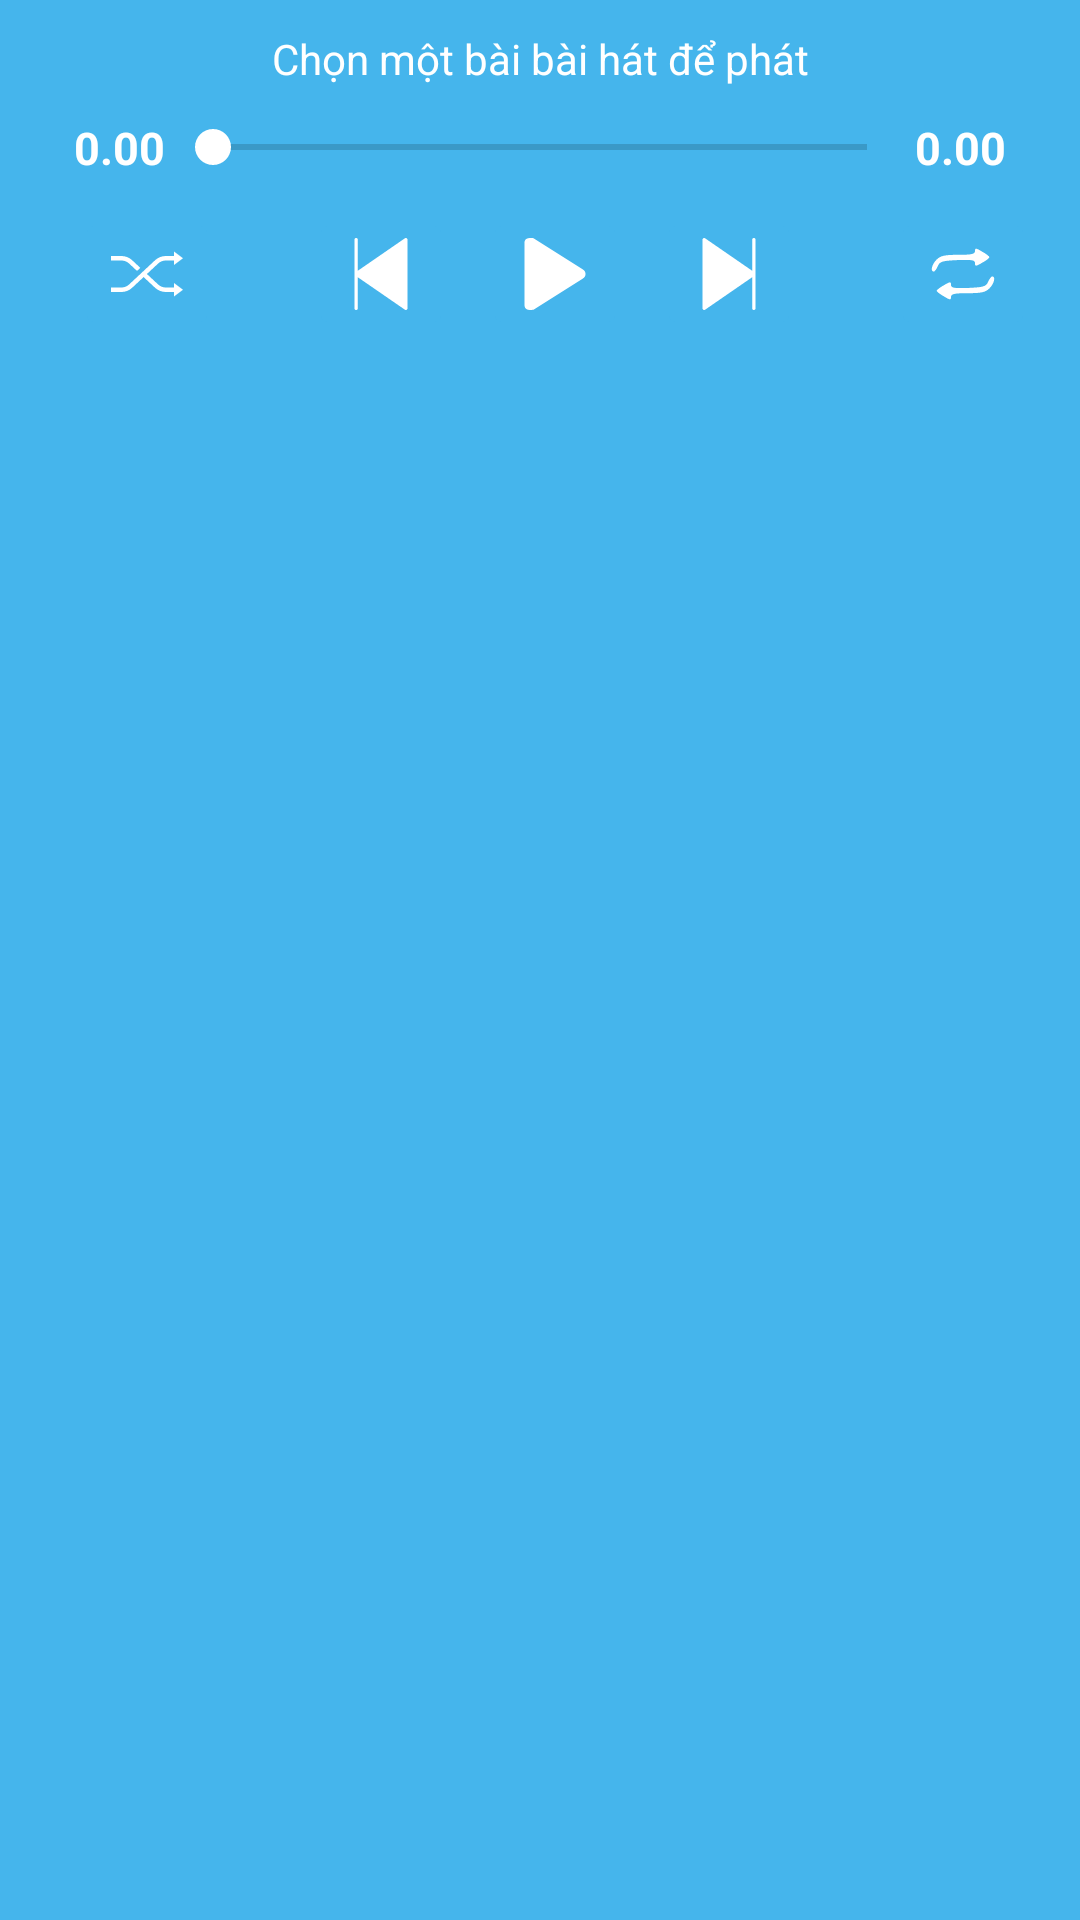

Screen size 1080px×1920px. Icon name, then its box in pixels as region(x1, y1, x2, y2):
next: region(702, 238, 756, 310)
no repeat: region(931, 248, 995, 300)
no shuffle: region(111, 251, 183, 297)
play: region(524, 238, 586, 310)
previous: region(354, 238, 408, 310)
